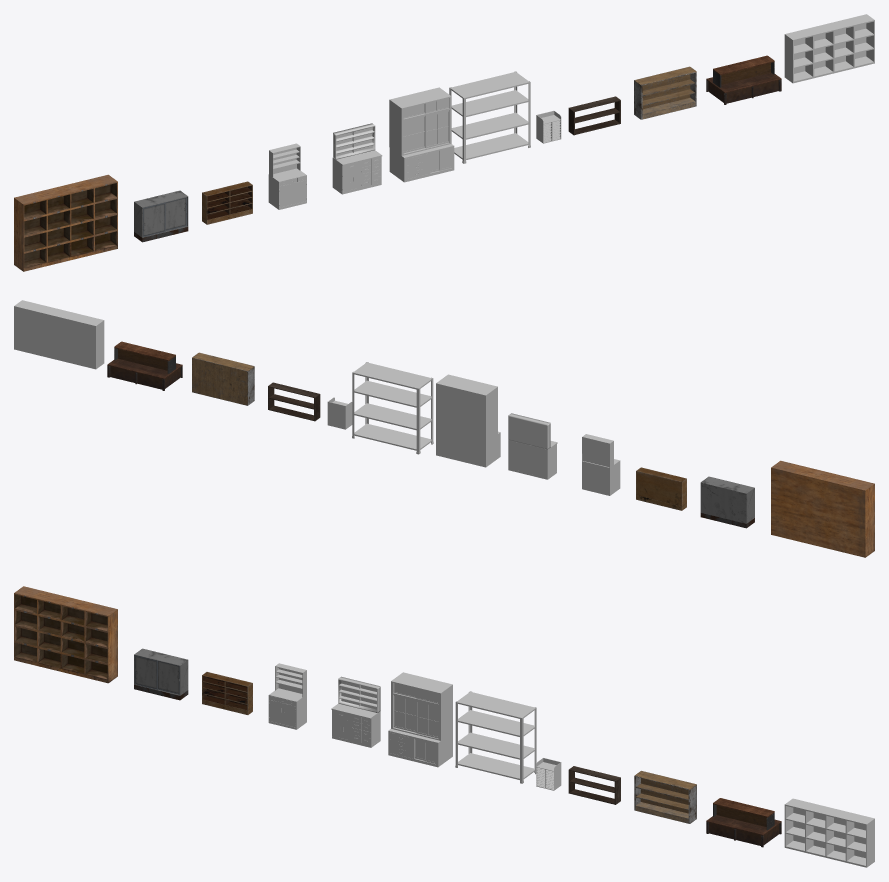
File: ShelfSet.fbx
3 renders of one model, top to bottom at view 1: azimuth 30°, elevation 25°; view 2: azimuth 150°, elevation 25°; view 3: azimuth 330°, elevation 25°, orthographic.
Parts seen in each view (by area): view 1: Shelf_A.002, Shelf_L.001, Shelf_G, Shelf_F.001|ShelfF_body|Dupli|, Shelf_J.002, Shelf_K.002, Shelf_C.002, Shelf_D|ShelfG_BaseB|Dupli|, Shelf_E.002|ShelfTop|Dupli|3, Shelf_I.002, Shelf_E.002|ShelfE|Dupli|2, Shelf_B.001|Shelf_B|Dupli| (+5 smaller); view 2: Shelf_A.002, Shelf_F.001|ShelfF_body|Dupli|, Shelf_G, Shelf_L.001, Shelf_J.002, Shelf_K.002, Shelf_B.001|Shelf_B|Dupli|, Shelf_D|ShelfG_BaseB|Dupli|, Shelf_C.002, Shelf_E.002|ShelfE|Dupli|2, Shelf_E.002|ShelfTop|Dupli|3, Shelf_I.002 (+1 smaller); view 3: Shelf_A.002, Shelf_G, Shelf_L.001, Shelf_F.001|ShelfF_body|Dupli|, Shelf_J.002, Shelf_K.002, Shelf_C.002, Shelf_D|ShelfG_BaseB|Dupli|, Shelf_E.002|ShelfTop|Dupli|3, Shelf_I.002, Shelf_E.002|ShelfE|Dupli|2, Shelf_B.001|Shelf_B|Dupli| (+5 smaller).
Boxes of the visible parts, box(x1,y1,x2,y2) form: Shelf_A.002: box(14, 174, 117, 271); Shelf_L.001: box(784, 14, 874, 83); Shelf_G: box(449, 71, 530, 163); Shelf_F.001|ShelfF_body|Dupli|: box(389, 87, 454, 182); Shelf_J.002: box(634, 66, 696, 119); Shelf_K.002: box(706, 55, 781, 104); Shelf_C.002: box(202, 181, 252, 224); Shelf_D|ShelfG_BaseB|Dupli|: box(268, 143, 306, 209); Shelf_E.002|ShelfTop|Dupli|3: box(333, 123, 375, 159); Shelf_I.002: box(568, 96, 620, 135); Shelf_E.002|ShelfE|Dupli|2: box(332, 150, 382, 194); Shelf_B.001|Shelf_B|Dupli|: box(134, 190, 188, 237); Shelf_A.002: box(771, 460, 874, 557); Shelf_F.001|ShelfF_body|Dupli|: box(436, 374, 500, 467); Shelf_G: box(352, 362, 433, 454); Shelf_L.001: box(14, 300, 104, 369); Shelf_J.002: box(192, 352, 254, 405); Shelf_K.002: box(107, 341, 182, 390); Shelf_B.001|Shelf_B|Dupli|: box(700, 476, 754, 523); Shelf_D|ShelfG_BaseB|Dupli|: box(582, 434, 620, 495); Shelf_C.002: box(636, 467, 686, 510); Shelf_E.002|ShelfE|Dupli|2: box(508, 440, 557, 479); Shelf_E.002|ShelfTop|Dupli|3: box(508, 413, 550, 449); Shelf_I.002: box(268, 382, 320, 421); Shelf_A.002: box(14, 586, 117, 683); Shelf_G: box(455, 691, 536, 783); Shelf_L.001: box(784, 798, 874, 867); Shelf_F.001|ShelfF_body|Dupli|: box(388, 672, 452, 767); Shelf_J.002: box(634, 770, 696, 823); Shelf_K.002: box(706, 798, 781, 847); Shelf_C.002: box(202, 672, 252, 714); Shelf_D|ShelfG_BaseB|Dupli|: box(268, 663, 306, 729); Shelf_E.002|ShelfTop|Dupli|3: box(338, 676, 380, 712); Shelf_I.002: box(568, 766, 620, 804); Shelf_E.002|ShelfE|Dupli|2: box(331, 703, 380, 747); Shelf_B.001|Shelf_B|Dupli|: box(134, 648, 188, 695).
Size of the model in its own units: 29.59 by 2.39 by 1.19.
